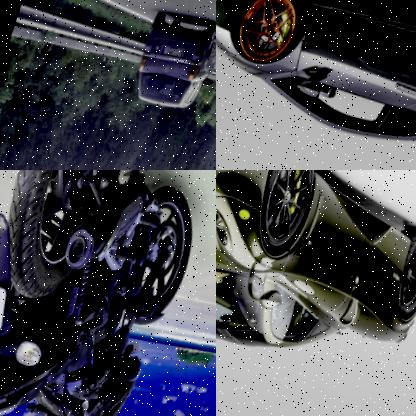bike: (0, 170, 216, 416)
car: (216, 170, 416, 388), (216, 0, 416, 170), (125, 5, 216, 119)
